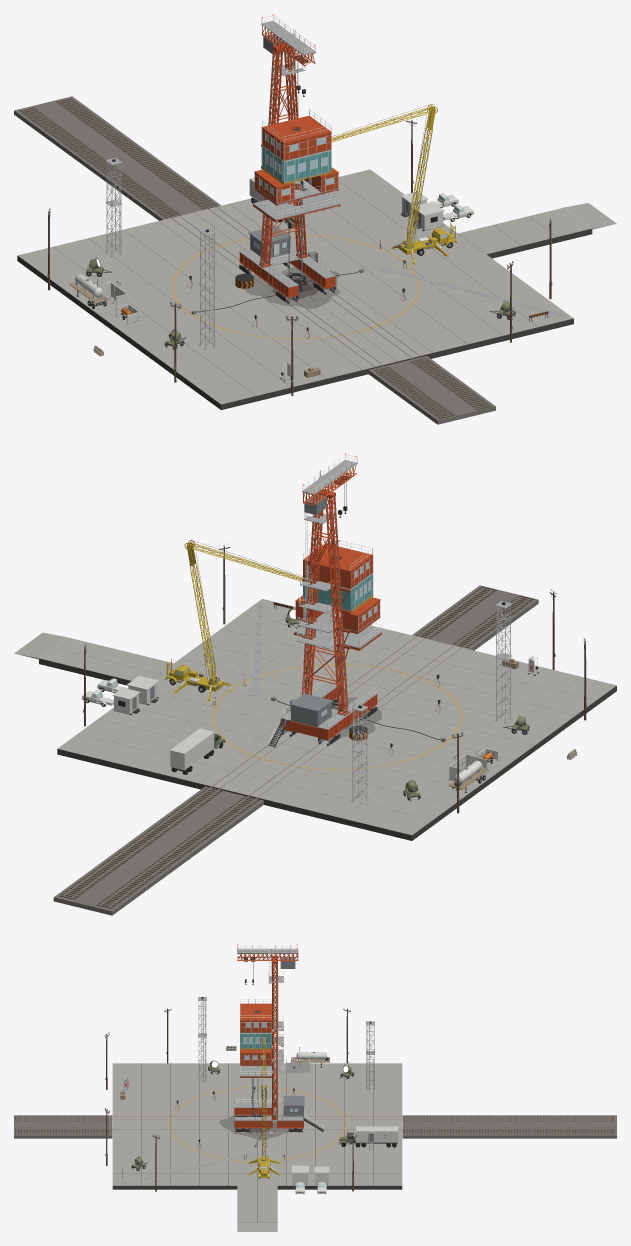
Rendered from pad.lod1.glb.
3 views of the same model, one above another, from view 1: azimuth 30°, elevation 25°; view 2: azimuth 150°, elevation 25°; view 3: azimuth 270°, elevation 25° (orthographic). The views are drawn at different scales.
Visible parts, largest first — view 1: Hardstand_Concrete, Hardstand_Ballast, Hardstand_Tie, ServiceStructure_Red, Hardstand_Joint, Hardstand_Rail, ServiceStructure_Deck, Hardstand_Stain, ServiceStructure_Platform4_Left_Red, CameraTowers_Tower1_Galv, CameraTowers_Tower2_Galv, CherryPicker_Mast_Yellow (+13 smaller); view 2: Hardstand_Concrete, Hardstand_Ballast, ServiceStructure_Red, Hardstand_Tie, Hardstand_Joint, Hardstand_Rail, ServiceStructure_Deck, ServiceStructure_Grey, CameraTowers_Tower1_Galv, GroundEquipment_Trailer_TrailerVan, ServiceStructure_White, CameraTowers_Tower2_Galv (+10 smaller); view 3: Hardstand_Concrete, Hardstand_Ballast, Hardstand_Rail, ServiceStructure_Red, Hardstand_Tie, Hardstand_Joint, ServiceStructure_Deck, ServiceStructure_Grey, GroundEquipment_Trailer_TrailerVan, ServiceStructure_White, ServiceStructure_Platform4_Right_Red, Hardstand_Stain (+5 smaller).
Boxes of the visible parts, x1,y1,x2,y2 form: Hardstand_Concrete: [18, 169, 591, 404]; Hardstand_Ballast: [14, 96, 495, 424]; Hardstand_Tie: [19, 98, 491, 419]; ServiceStructure_Red: [239, 25, 335, 298]; Hardstand_Joint: [17, 211, 592, 409]; Hardstand_Rail: [23, 99, 486, 416]; ServiceStructure_Deck: [239, 20, 335, 287]; Hardstand_Stain: [244, 266, 339, 308]; ServiceStructure_Platform4_Left_Red: [261, 121, 307, 160]; CameraTowers_Tower1_Galv: [199, 228, 215, 349]; CameraTowers_Tower2_Galv: [105, 158, 122, 257]; CherryPicker_Mast_Yellow: [407, 104, 437, 240]; Hardstand_Concrete: [39, 599, 616, 835]; Hardstand_Ballast: [53, 585, 538, 915]; ServiceStructure_Red: [280, 464, 377, 740]; Hardstand_Tie: [59, 586, 534, 908]; Hardstand_Joint: [39, 637, 616, 840]; Hardstand_Rail: [63, 587, 528, 907]; ServiceStructure_Deck: [280, 460, 376, 729]; ServiceStructure_Grey: [289, 494, 369, 738]; CameraTowers_Tower1_Galv: [495, 601, 512, 723]; GroundEquipment_Trailer_TrailerVan: [170, 728, 214, 770]; ServiceStructure_White: [269, 454, 376, 745]; CameraTowers_Tower2_Galv: [351, 704, 368, 804]; Hardstand_Concrete: [112, 1063, 402, 1222]; Hardstand_Ballast: [14, 1115, 616, 1138]; Hardstand_Rail: [18, 1116, 612, 1132]; ServiceStructure_Red: [234, 950, 303, 1128]; Hardstand_Tie: [15, 1116, 613, 1134]; Hardstand_Joint: [112, 1063, 402, 1222]; ServiceStructure_Deck: [234, 948, 303, 1135]; ServiceStructure_Grey: [273, 957, 304, 1118]; GroundEquipment_Trailer_TrailerVan: [356, 1126, 398, 1143]; ServiceStructure_White: [234, 945, 323, 1131]; ServiceStructure_Platform4_Right_Red: [240, 1012, 271, 1032]; Hardstand_Stain: [219, 1115, 287, 1140].
Bounding box in the file's own units: 90.64 × 42.38 × 127.
